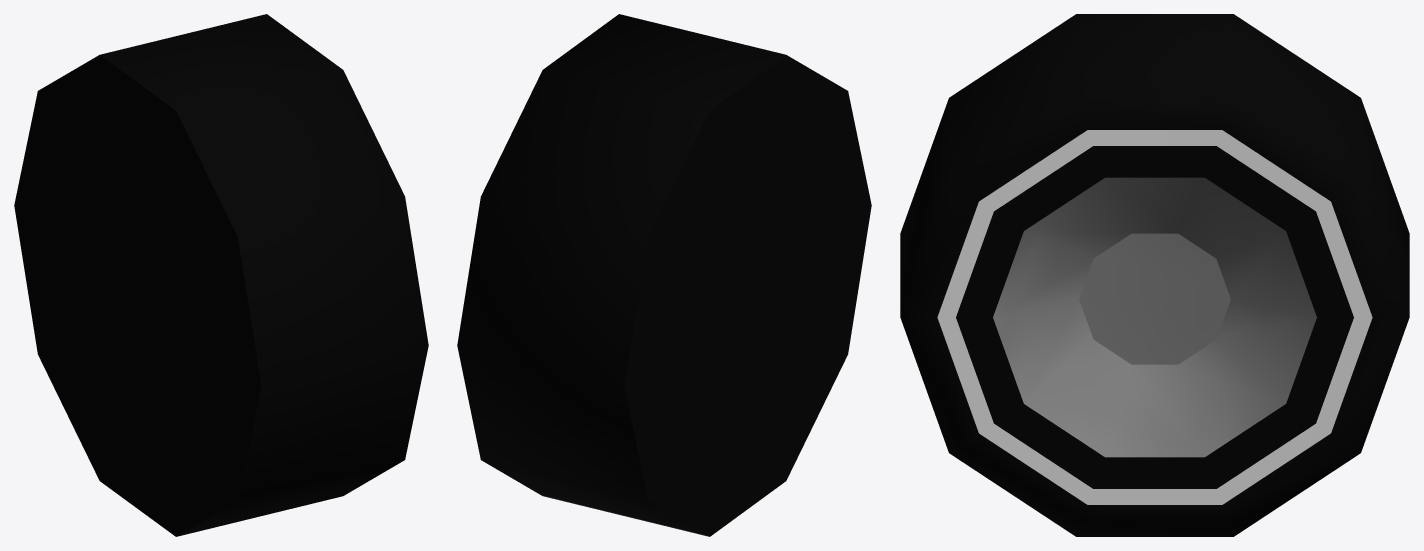
The model's file is Whell_2.fbx.
The picture shows the model from 3 angles, left to right: view 1: azimuth 30°, elevation 25°; view 2: azimuth 150°, elevation 25°; view 3: azimuth 270°, elevation 25°; orthographic projection. The views are drawn at different scales.
Visible parts, largest first — view 1: Whell_2; view 2: Whell_2; view 3: Whell_2.
Part boxes in pixels (<box>): Whell_2: <box>14,14,428,536</box>; Whell_2: <box>457,14,871,536</box>; Whell_2: <box>900,14,1409,536</box>.
Bounding box in the file's own units: 29.43 × 71.68 × 75.37.
Materials: 1 (1 with a texture image).
